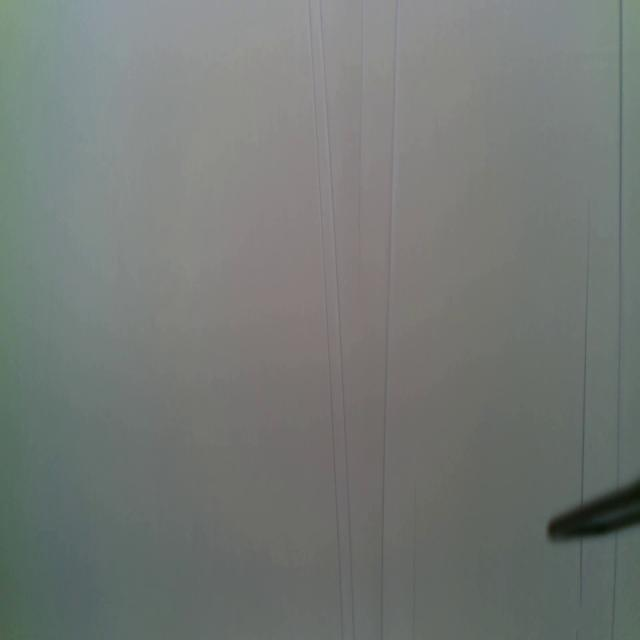crease: (308, 0, 357, 640), (378, 0, 399, 637), (579, 186, 593, 501), (615, 0, 624, 479), (409, 481, 420, 640), (610, 528, 619, 638), (577, 537, 585, 608)
